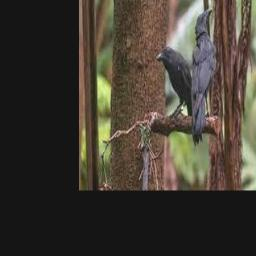Crow: (157, 46, 203, 147), (192, 8, 213, 144)
